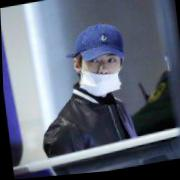WRONG: (79, 48, 124, 99)
